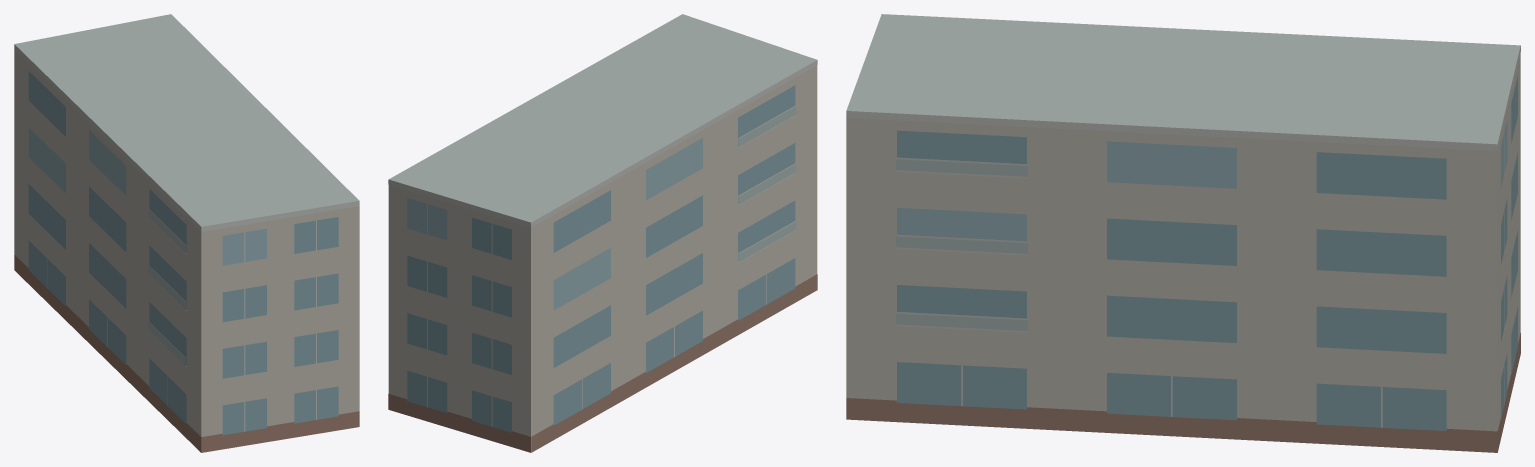
File: survey-upis-32932205.glb
3 renders of one model, left to right at view 1: azimuth 30°, elevation 25°; view 2: azimuth 150°, elevation 25°; view 3: azimuth 270°, elevation 25°, orthographic. The views are drawn at different scales.
Parts seen in each view (by area): view 1: survey-upis-32932205.tmp; view 2: survey-upis-32932205.tmp; view 3: survey-upis-32932205.tmp.
Boxes of the visible parts, x1,y1,x2,y2 form: survey-upis-32932205.tmp: [14, 14, 359, 452]; survey-upis-32932205.tmp: [388, 14, 817, 452]; survey-upis-32932205.tmp: [846, 14, 1520, 452].
Size of the model in its own units: 9.88 by 10.9 by 21.6.
